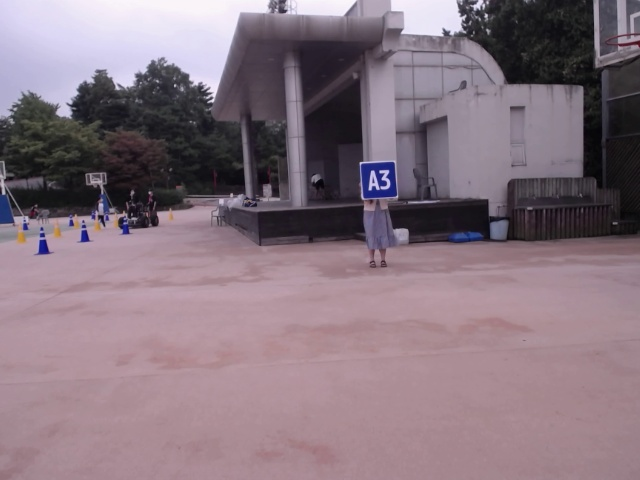delivery_a3: (360, 161, 398, 199)
